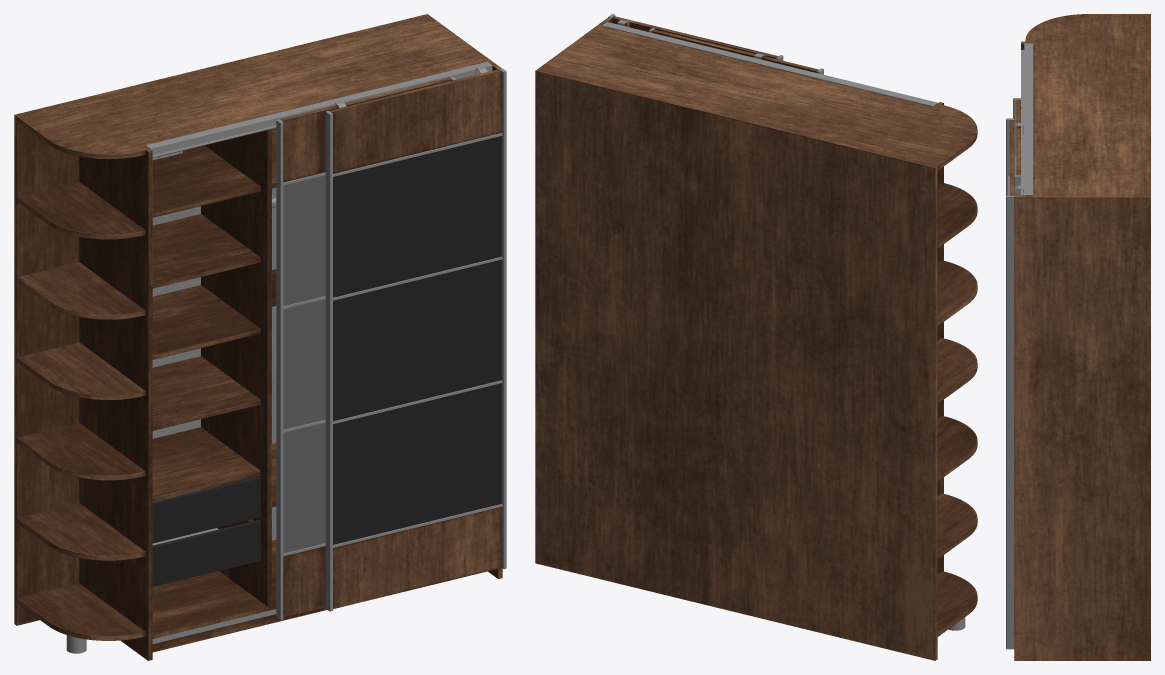
The model's file is wardrobe-modern-wood.glb.
3 views of the same model, side by side, from view 1: azimuth 30°, elevation 25°; view 2: azimuth 150°, elevation 25°; view 3: azimuth 270°, elevation 25° (orthographic). The views are drawn at different scales.
Parts seen in each view (by area): view 1: Wardrobe, WardrobeDoor2, WardrobeDoor1, WardrobeDrawer2, WardrobeDrawer1; view 2: Wardrobe, WardrobeDoor2, WardrobeDoor1; view 3: Wardrobe, WardrobeDoor2, WardrobeDoor1.
Part boxes in pixels (x1,y1,x2,y2): Wardrobe: [14, 14, 502, 660]; WardrobeDoor2: [325, 66, 506, 611]; WardrobeDoor1: [276, 77, 456, 619]; WardrobeDrawer2: [152, 519, 260, 586]; WardrobeDrawer1: [152, 476, 260, 543]; Wardrobe: [535, 17, 977, 660]; WardrobeDoor2: [608, 14, 783, 60]; WardrobeDoor1: [648, 28, 823, 74]; Wardrobe: [1014, 14, 1150, 660]; WardrobeDoor2: [1006, 118, 1024, 649]; WardrobeDoor1: [1013, 98, 1022, 195].
Size of the model in its own units: 1.89 by 2.23 by 0.6283.
5 materials, 3 textured.
